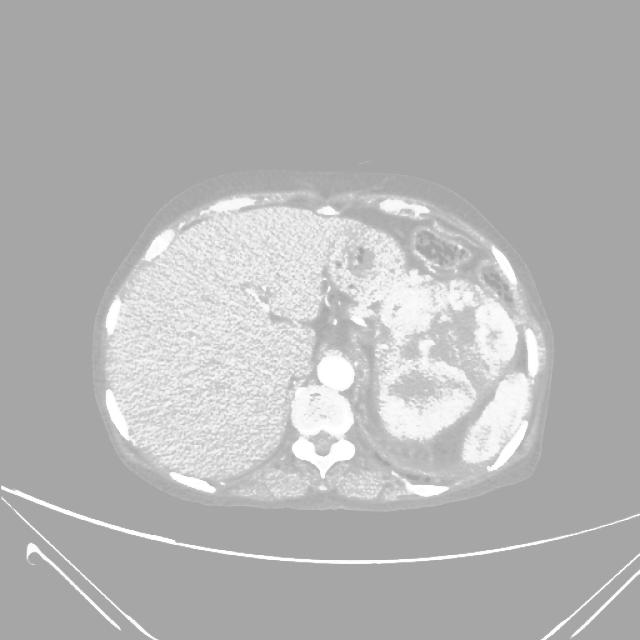TUMOR: (372, 297, 557, 456)
